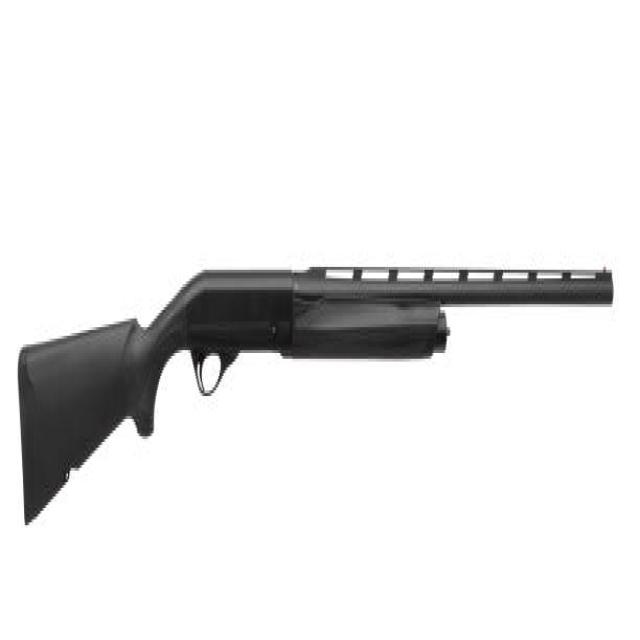rifle: (16, 255, 620, 541)
